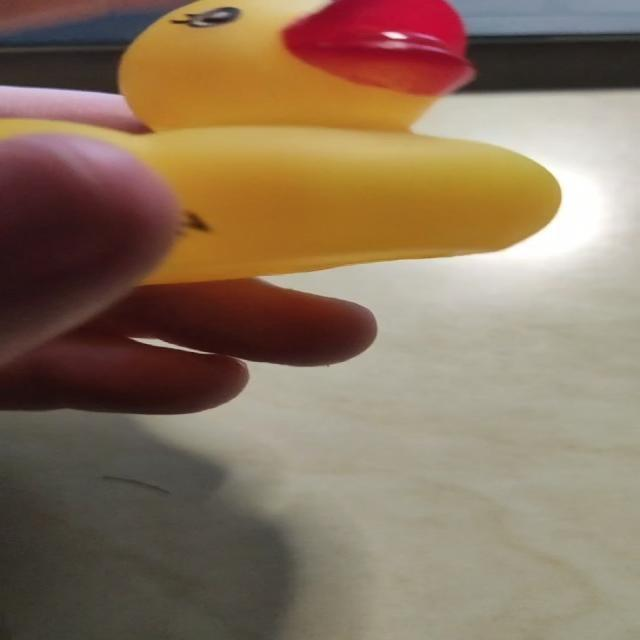rubber-duck: (0, 0, 559, 282)
